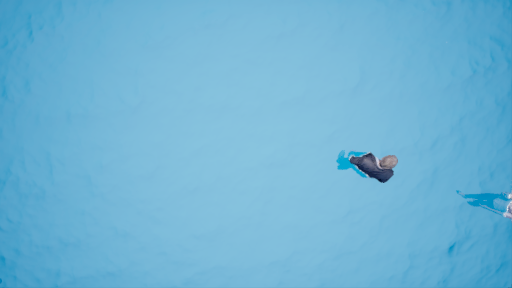person: (337, 150, 396, 185)
